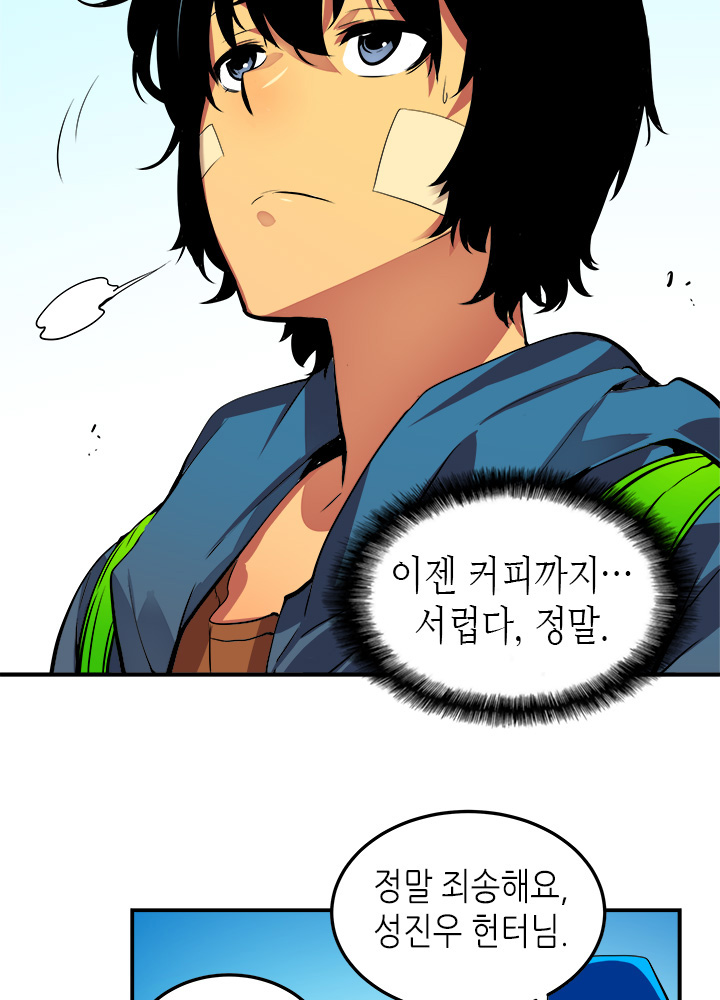dialog box: (288, 431, 720, 752), (301, 787, 646, 1000)
text: (362, 531, 650, 669), (347, 831, 591, 979)
